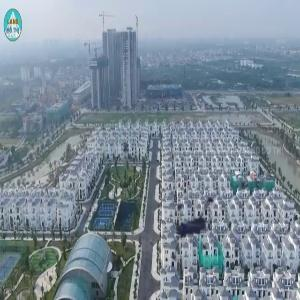drone: (144, 173, 237, 266)
